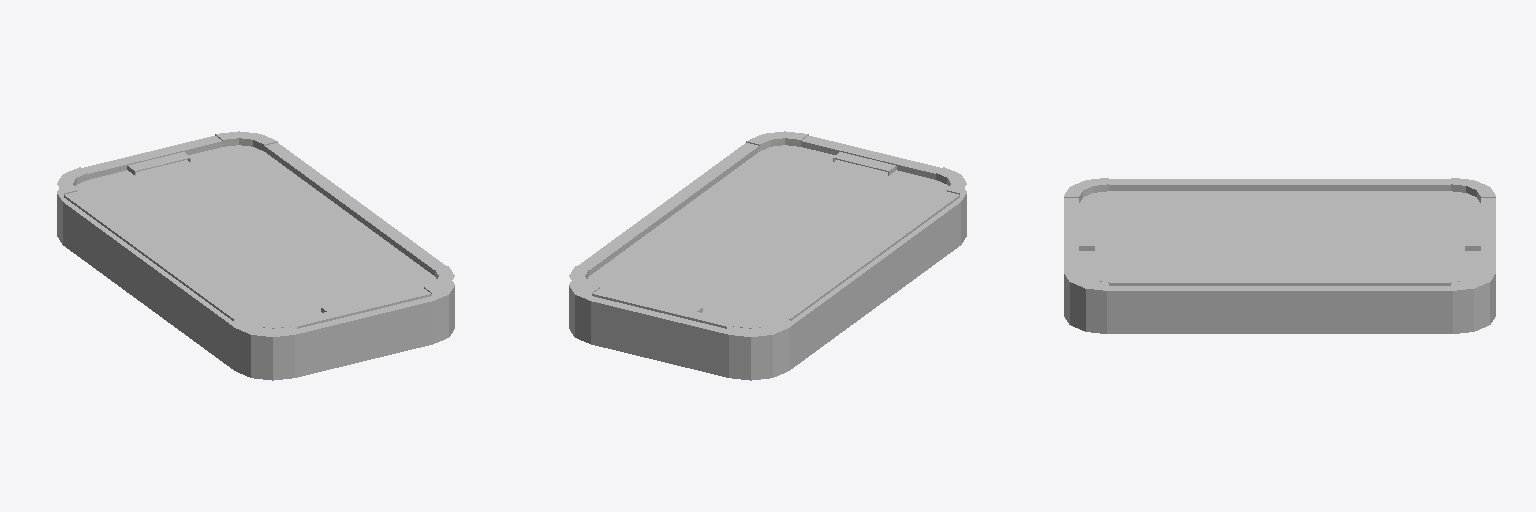
The model's file is tableShort2.obj.
The picture shows the model from 3 angles: view 1: azimuth 30°, elevation 25°; view 2: azimuth 150°, elevation 25°; view 3: azimuth 270°, elevation 25°; orthographic projection.
Visible parts, largest first — view 1: Mesh_Mesh_TableEdited; view 2: Mesh_Mesh_TableEdited; view 3: Mesh_Mesh_TableEdited.
Part boxes in pixels (bbox=[...]): Mesh_Mesh_TableEdited: bbox=[57, 131, 454, 380]; Mesh_Mesh_TableEdited: bbox=[569, 131, 966, 380]; Mesh_Mesh_TableEdited: bbox=[1064, 178, 1495, 333].
Bounding box in the file's own units: 26.44 × 6.16 × 46.26.